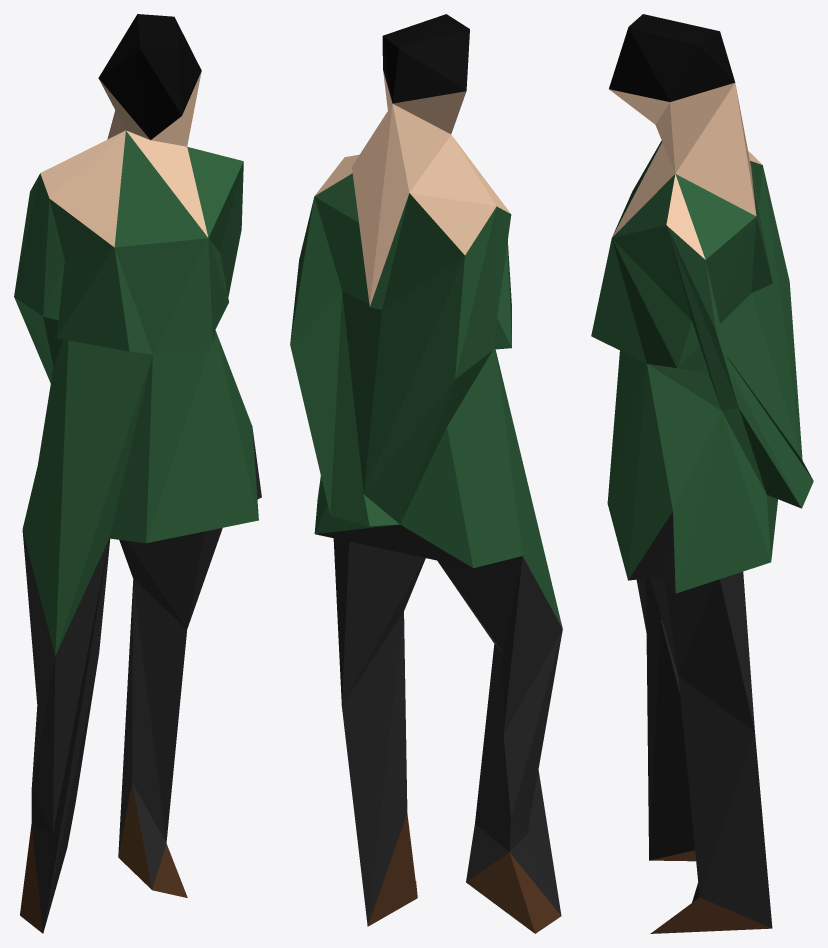
The model's file is walker-0.glb.
3 renders of one model, left to right at view 1: azimuth 30°, elevation 25°; view 2: azimuth 150°, elevation 25°; view 3: azimuth 270°, elevation 25°, orthographic. The views are drawn at different scales.
Visible parts, largest first — view 1: Woman05; view 2: Woman05; view 3: Woman05.
Boxes of the visible parts, x1,y1,x2,y2 form: Woman05: (14, 14, 261, 933); Woman05: (290, 14, 562, 933); Woman05: (591, 14, 813, 933).
Size of the model in its own units: 0.4411 by 1.58 by 0.3546.
